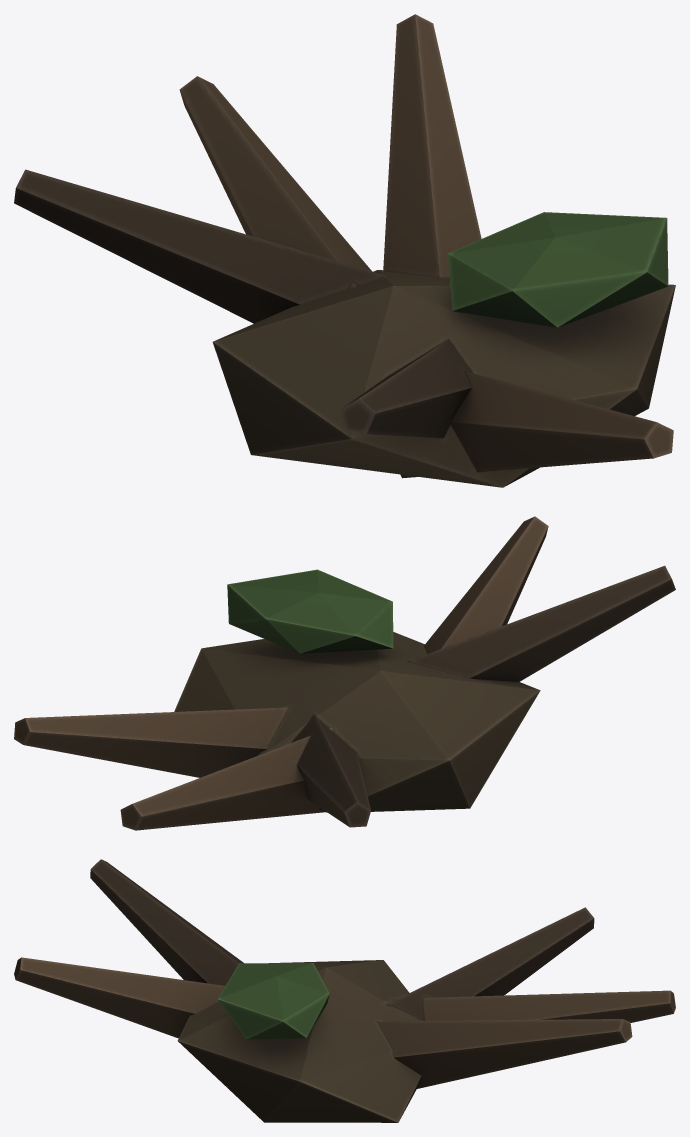
Rendered from rock_root.glb.
The picture shows the model from 3 angles, top to bottom: view 1: azimuth 30°, elevation 25°; view 2: azimuth 150°, elevation 25°; view 3: azimuth 270°, elevation 25°; orthographic projection. The views are drawn at different scales.
Parts seen in each view (by area): view 1: rock_root; view 2: rock_root; view 3: rock_root.
Part boxes in pixels (bbox=[...]): rock_root: bbox=[14, 14, 675, 487]; rock_root: bbox=[14, 516, 675, 830]; rock_root: bbox=[14, 859, 675, 1122].
Bounding box in the file's own units: 0.8832 × 0.4555 × 1.6.
Materials: 1 (1 with a texture image).
